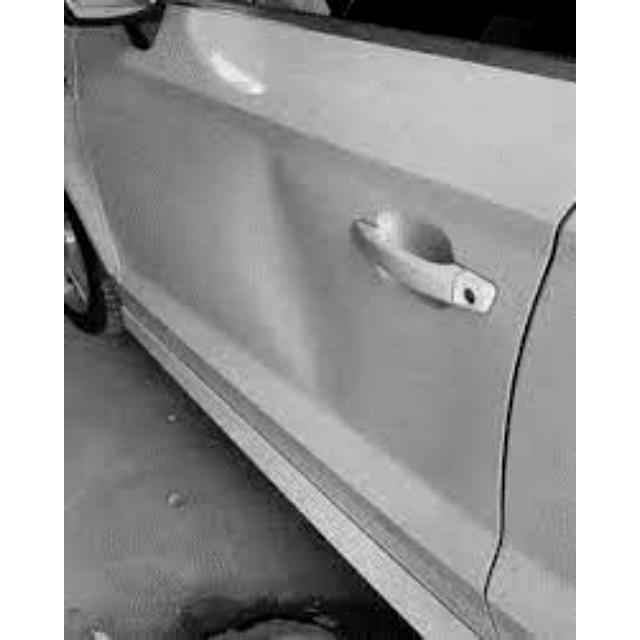doorouter-dent: (69, 0, 395, 532)
